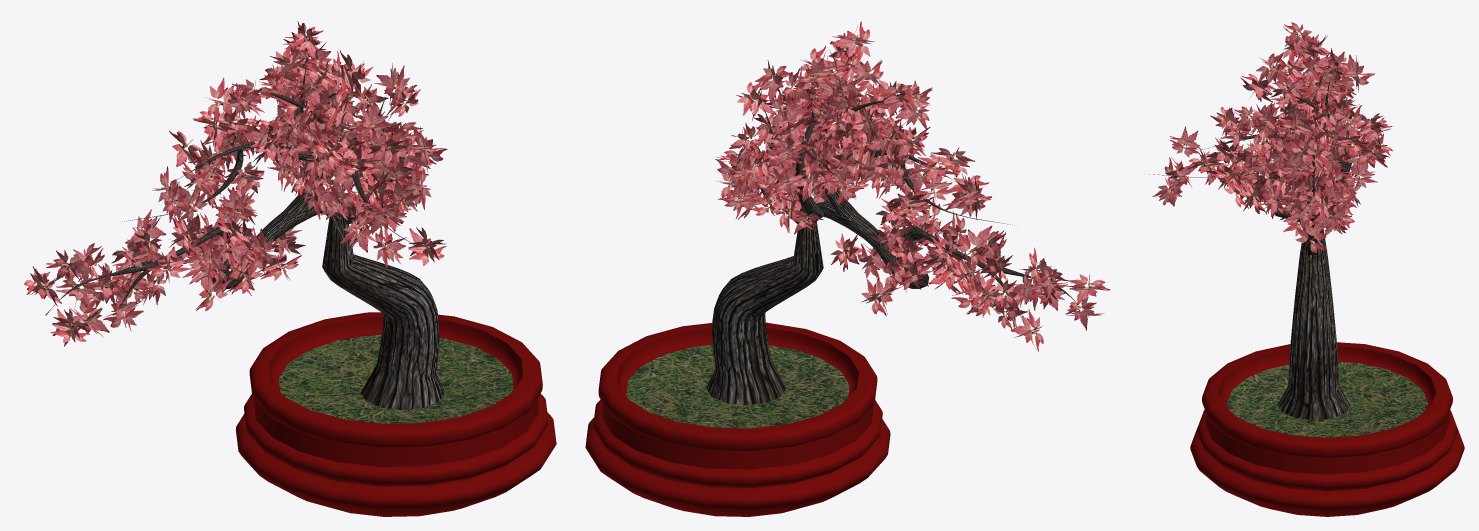
The model's file is bonsai.FBX.
3 renders of one model, left to right at view 1: azimuth 30°, elevation 25°; view 2: azimuth 150°, elevation 25°; view 3: azimuth 270°, elevation 25°, orthographic. The views are drawn at different scales.
Parts seen in each view (by area): view 1: leaf, VASE, Shape1; view 2: VASE, leaf, Shape1; view 3: VASE, leaf, Shape1.
Part boxes in pixels (<box>): leaf: <box>24,21,447,346</box>; VASE: <box>236,312,556,516</box>; Shape1: <box>45,28,445,409</box>; VASE: <box>585,322,890,516</box>; leaf: <box>715,21,1110,351</box>; Shape1: <box>706,50,1084,405</box>; VASE: <box>1190,342,1464,516</box>; leaf: <box>1152,22,1392,253</box>; Shape1: <box>1149,44,1353,420</box>.
Bounding box in the file's own units: 73.15 × 68.09 × 45.72.
Materials: 3 (3 with a texture image).
